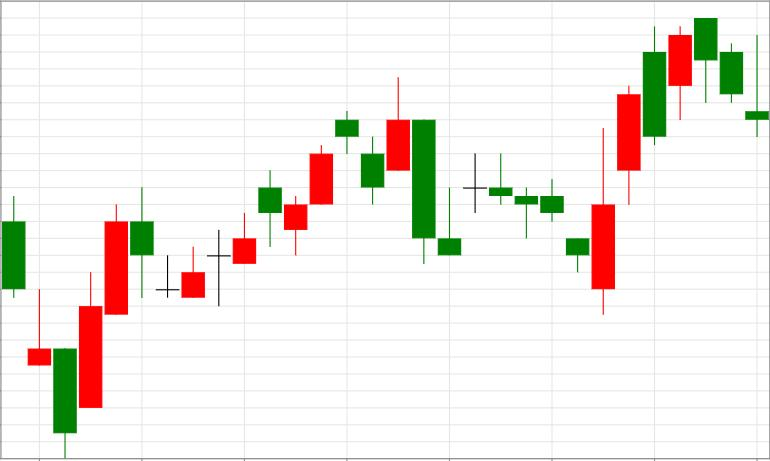bullish_engulfing_rise: (463, 128, 615, 315)
evening_star_fall: (156, 111, 384, 306)
